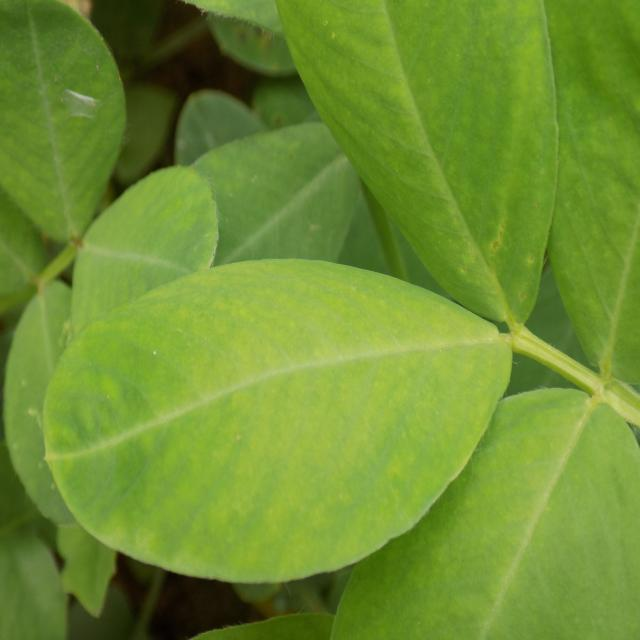Ground nut_healthy: (39, 253, 522, 582)
